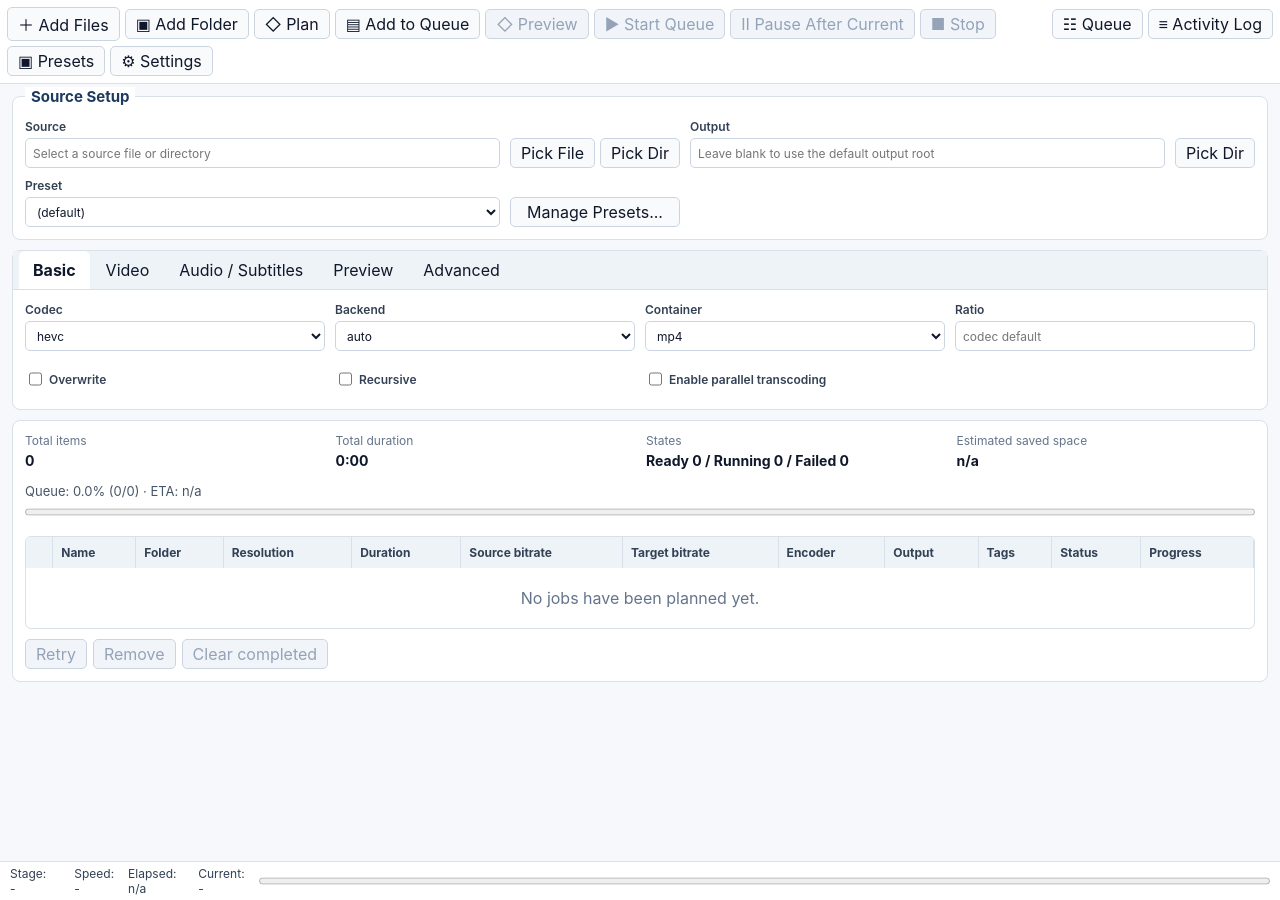
Test: successful plan sends the request and persists deduplicated recent paths
Type "/videos/source.mp4" into the field with placeholder "Select a source file or directory". click: (262, 153)
box: [25,138,500,168]
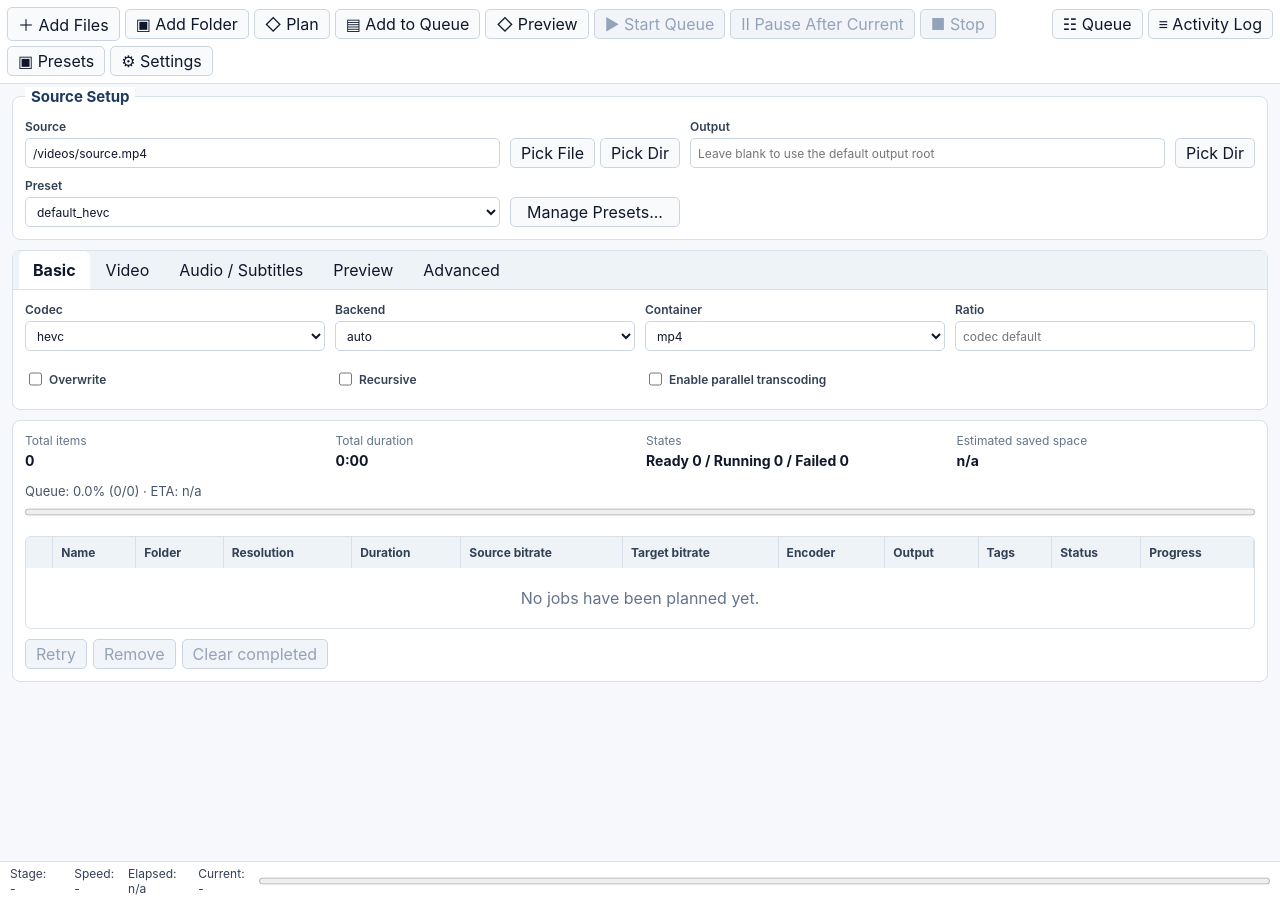
Click the button "◇ Plan". click: (292, 24)
box: [254,9,330,39]
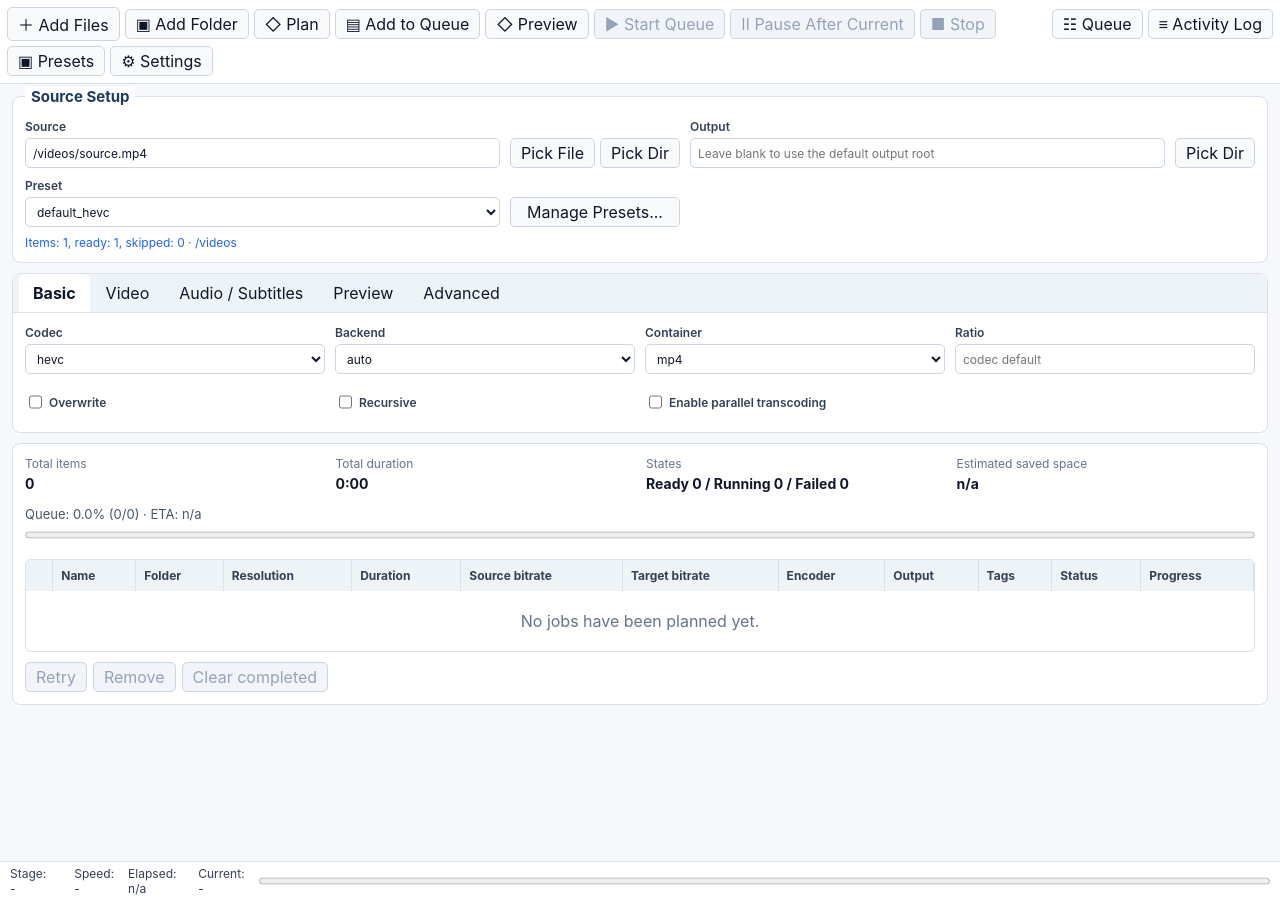
Now the text "Items: 1, ready: 1, skipped: 0 · /videos" is shown, box [25,235,237,250]
